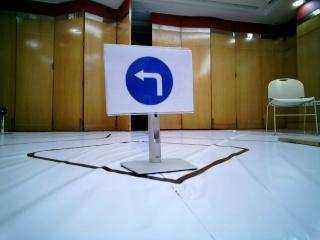left: (108, 45, 198, 112)
